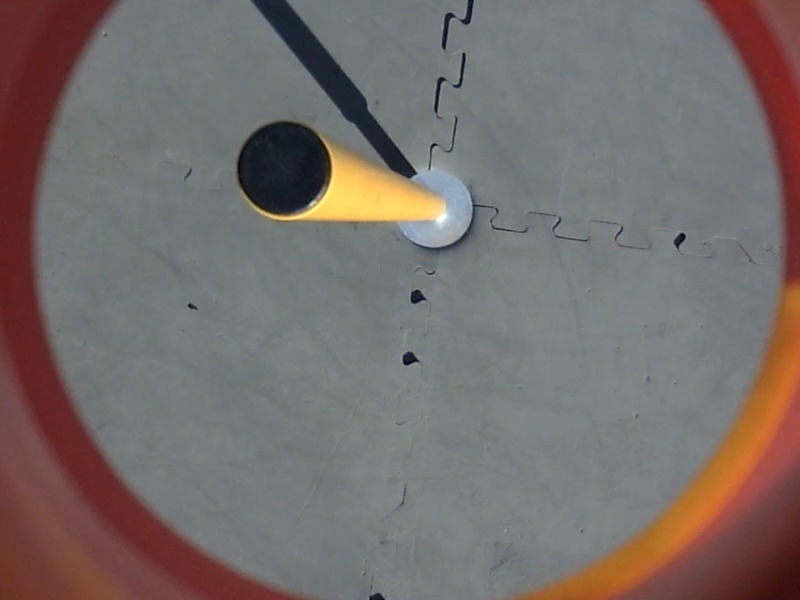tip: (234, 120, 340, 220)
